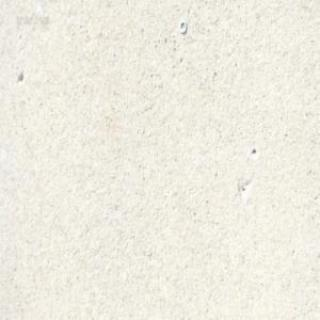Washertrack_idkeyframe: (178, 18, 186, 33)
